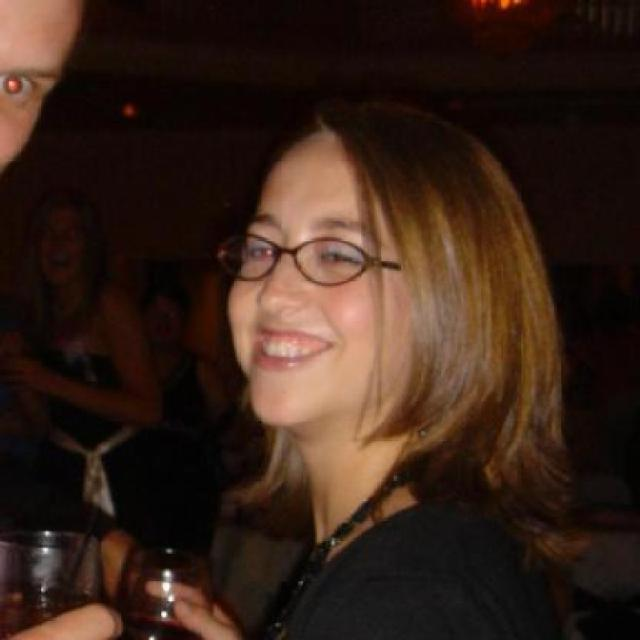awake: (0, 70, 35, 101), (67, 228, 78, 240), (45, 228, 52, 240)
drowsy: (315, 244, 359, 271), (248, 242, 277, 263)
